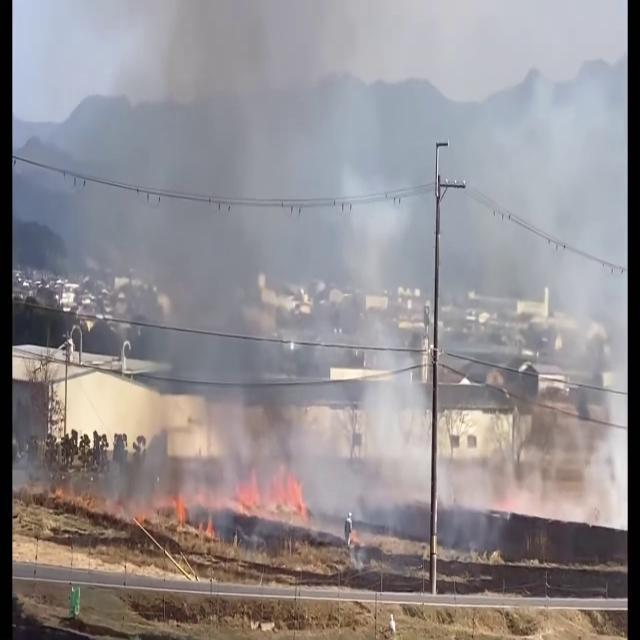Fire: (226, 468, 316, 528)
Smoke: (46, 1, 624, 534), (34, 442, 180, 524)
